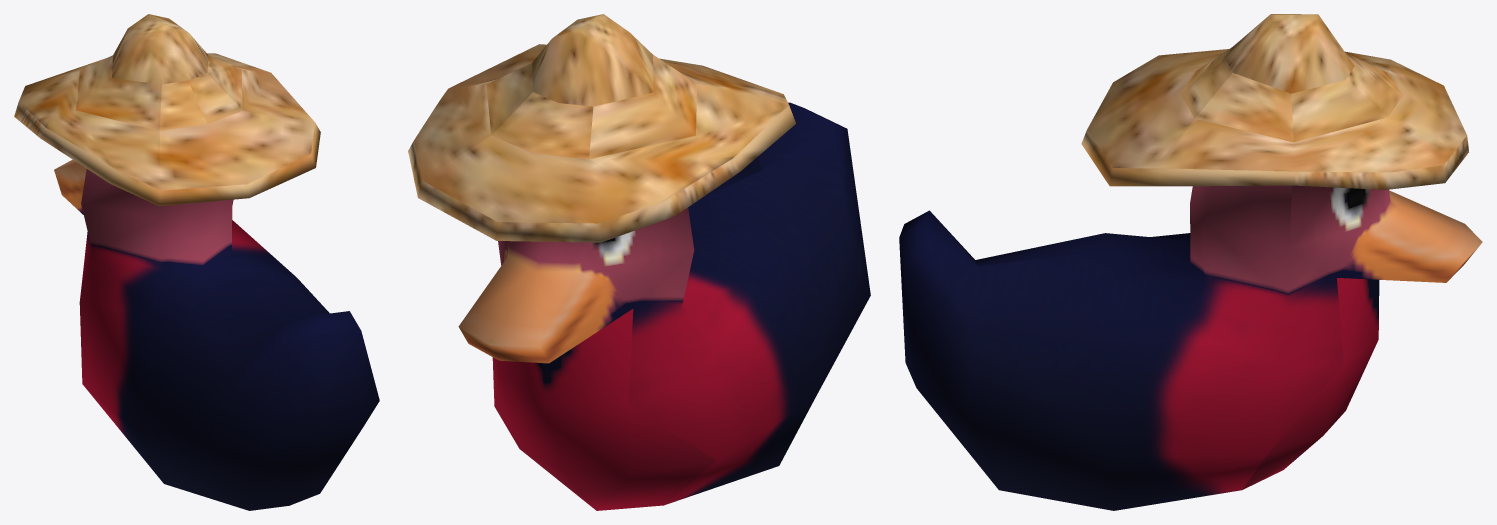
File: duck_duke.fbx
3 renders of one model, left to right at view 1: azimuth 30°, elevation 25°; view 2: azimuth 150°, elevation 25°; view 3: azimuth 270°, elevation 25°, orthographic. The views are drawn at different scales.
Visible parts, largest first — view 1: duke; view 2: duke; view 3: duke.
Boxes of the visible parts, bbox=[...] form: duke: bbox=[14, 14, 379, 510]; duke: bbox=[408, 14, 870, 510]; duke: bbox=[899, 14, 1482, 510].
Size of the model in its own units: 0.1116 by 0.1751 by 0.2035.
1 material, 1 textured.
